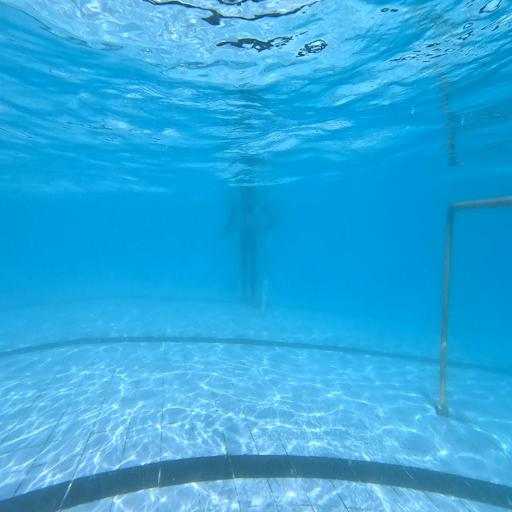gate: (435, 196, 512, 417)
